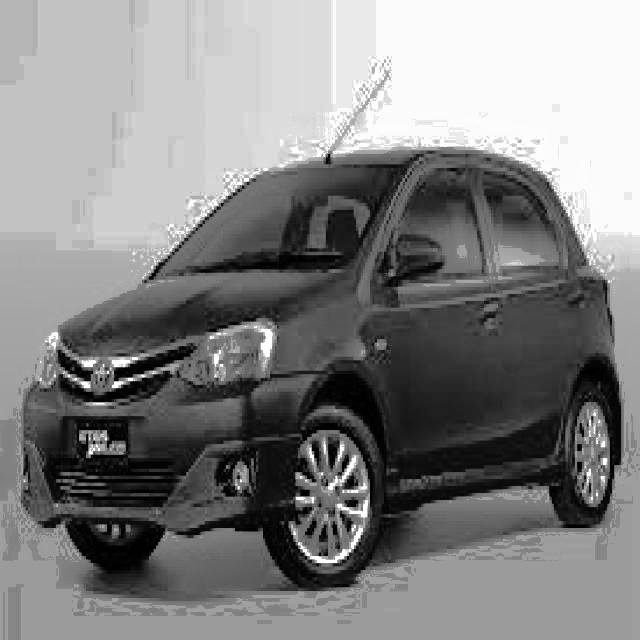Car: (35, 130, 632, 594)
